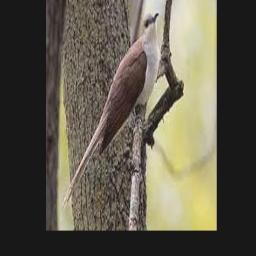Cuckoo: (61, 11, 159, 212)
